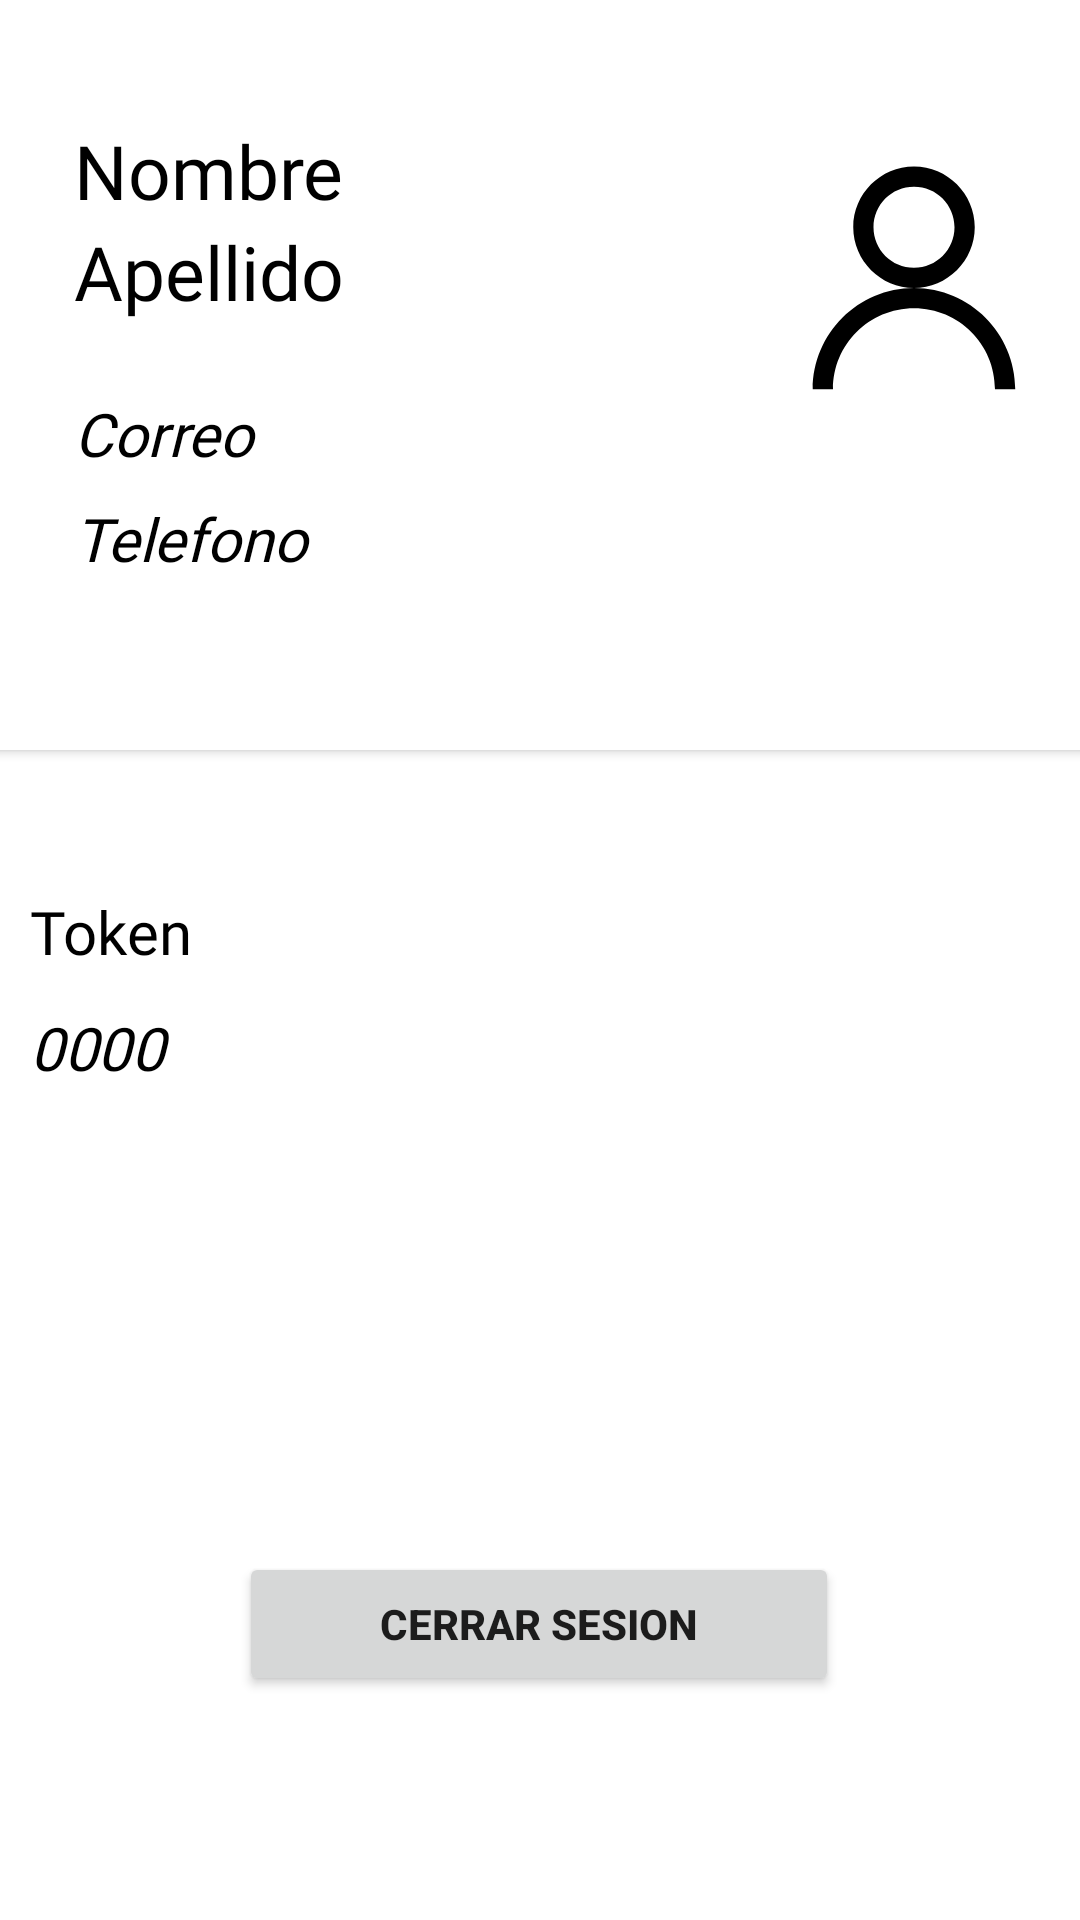

Screen size 1080 x 1920. Icon name, then its center in pixels as (x=x, y=y):
perfil: (x=914, y=278)
